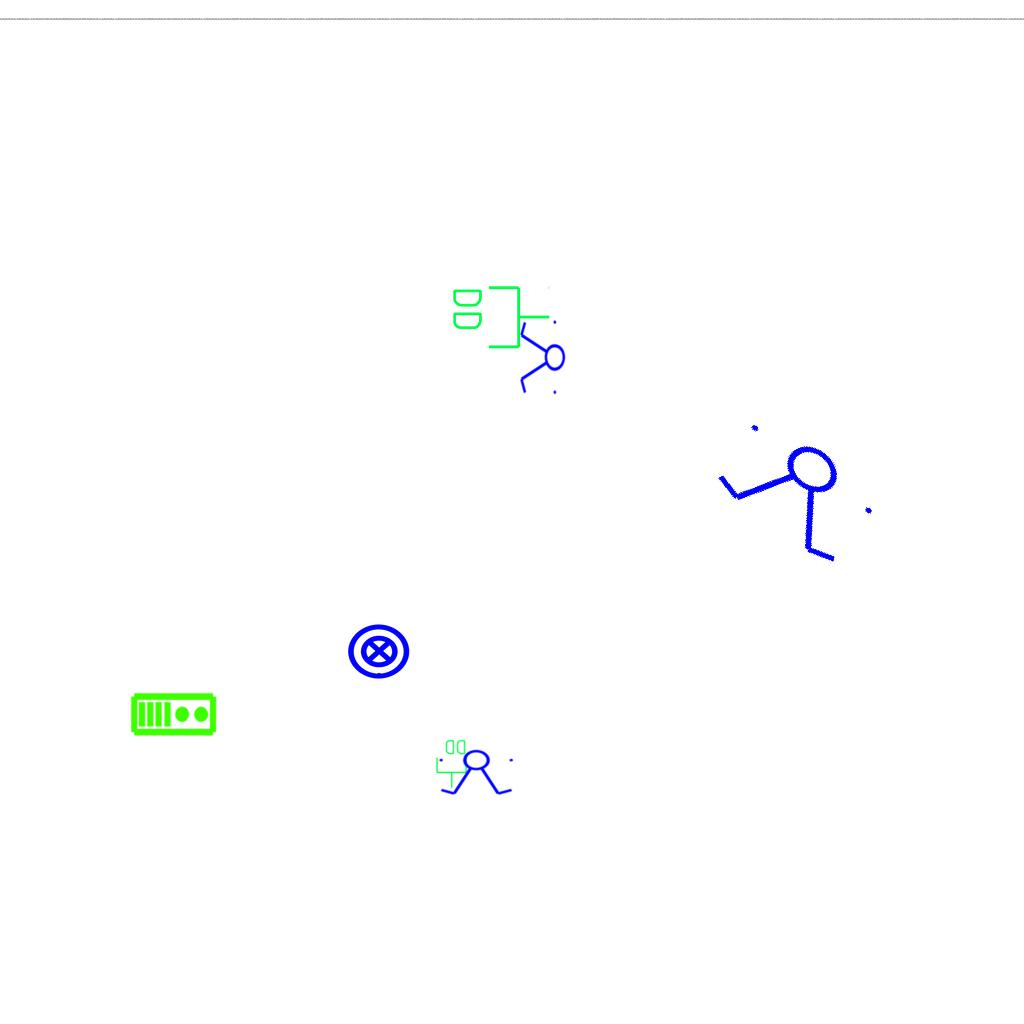Datenanschluss_zweifach: (449, 282, 552, 351), (435, 738, 469, 789)
Gegensprechanlage_mit_Video: (130, 690, 218, 737)
Serienschalter: (701, 402, 895, 580), (518, 316, 566, 400), (435, 749, 519, 797)
Taster_beleuchtet: (346, 618, 412, 684)
